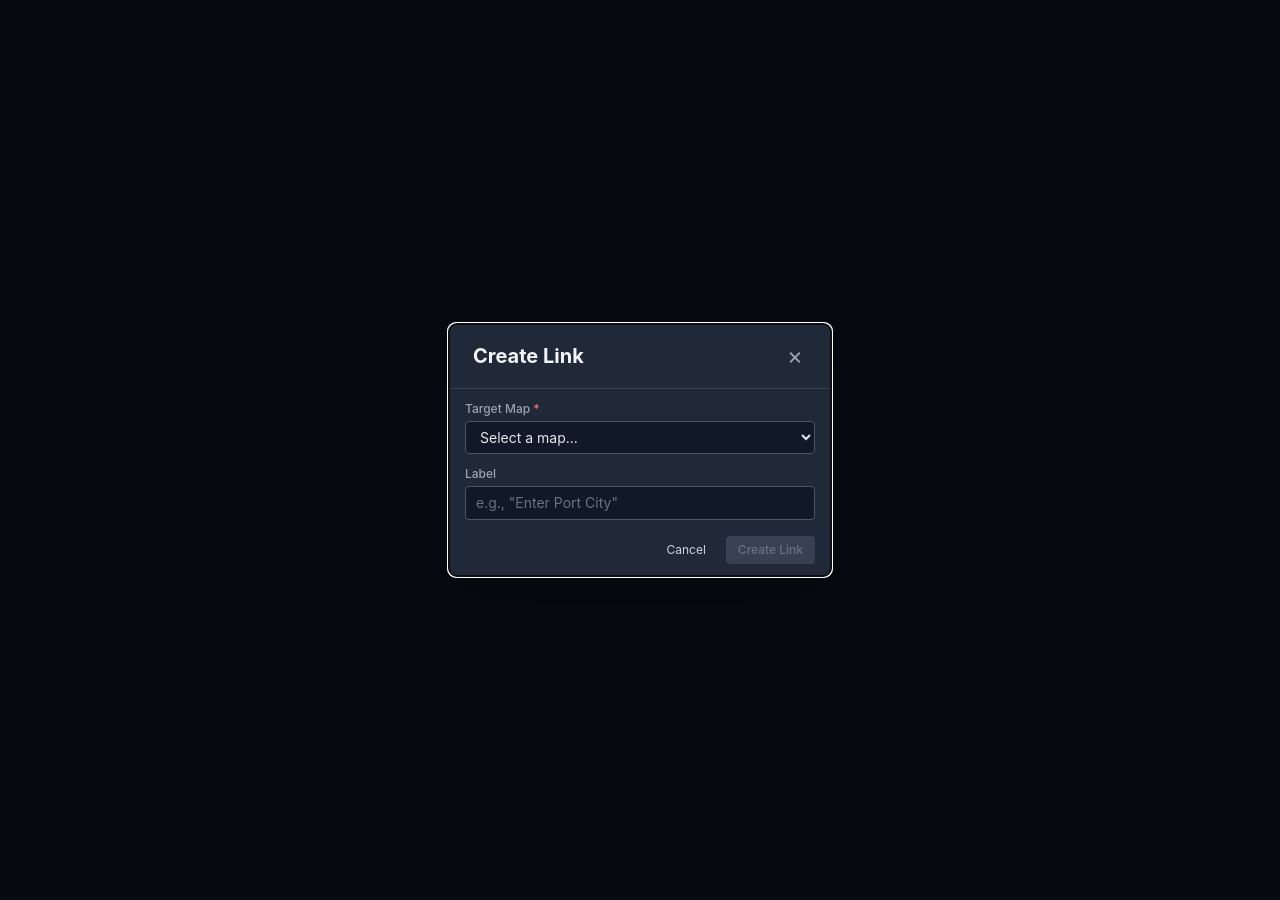
LinkEditor › enables submit when target map is selected
Check: the button "Create Link" is disabled, box top-left (726, 536), bottom-right (815, 564)
Select "Crystal Peaks (Region (50 mi/tile))" in the dropdown at (640, 438), box top-left (465, 421), bottom-right (815, 454)
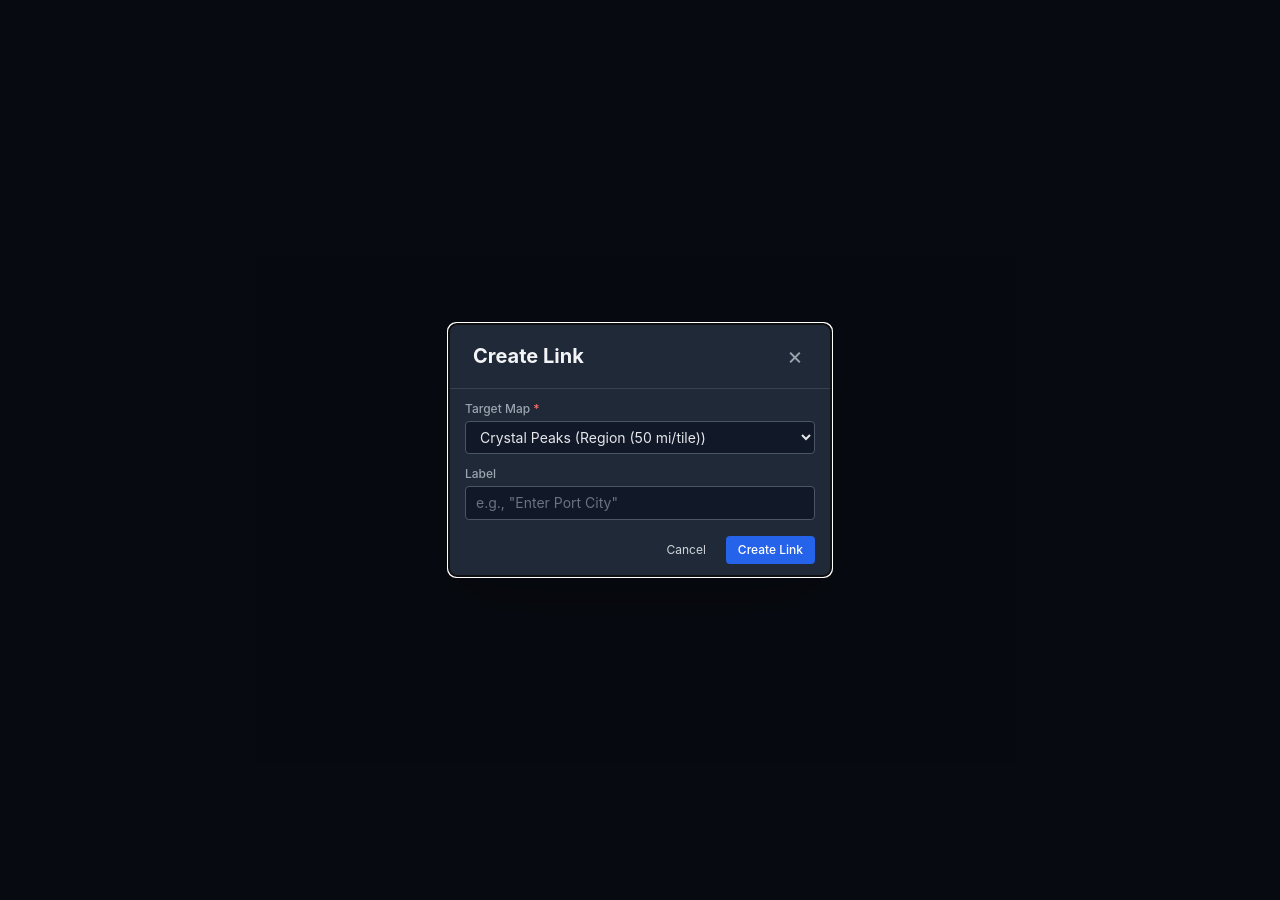
Check: the button "Create Link" is enabled, box top-left (726, 536), bottom-right (815, 564)
